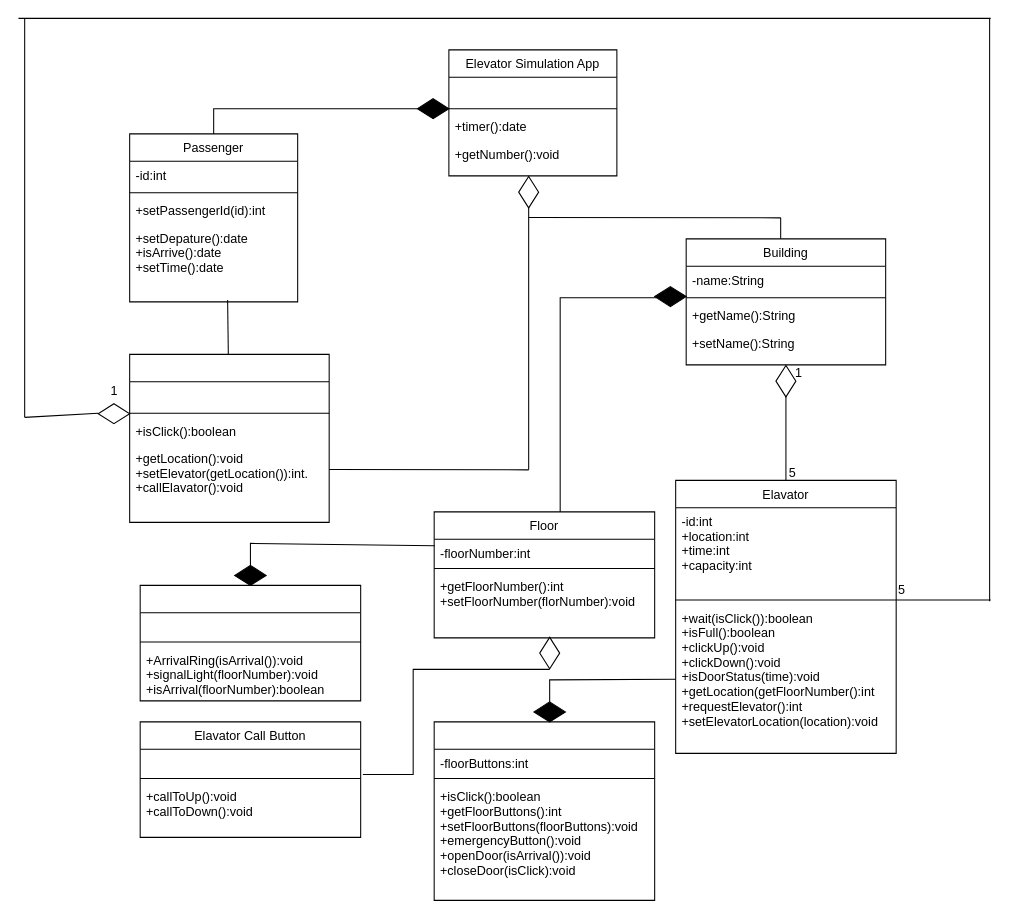
This 1010x922 diagram has some shape labels left out. The box of each missing label's shape, as (x1, y1, x2, y2) in pixels:
ControlPanel: (433, 721, 655, 900)
Door: (139, 584, 361, 701)
Programmer: (129, 353, 329, 522)
